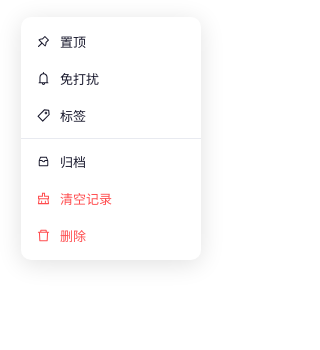
Test: ConversationContextMenu › should display existing tags
Click the text "标签".
click(62, 116)  # box [37, 108, 86, 124]
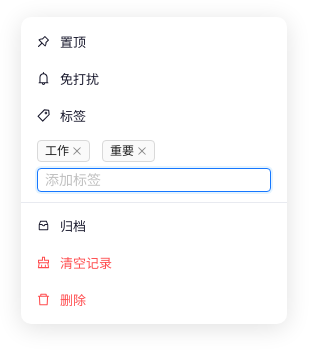
Now the text "工作" is shown, box [37, 140, 90, 162]
Now the text "重要" is shown, box [102, 140, 155, 162]
